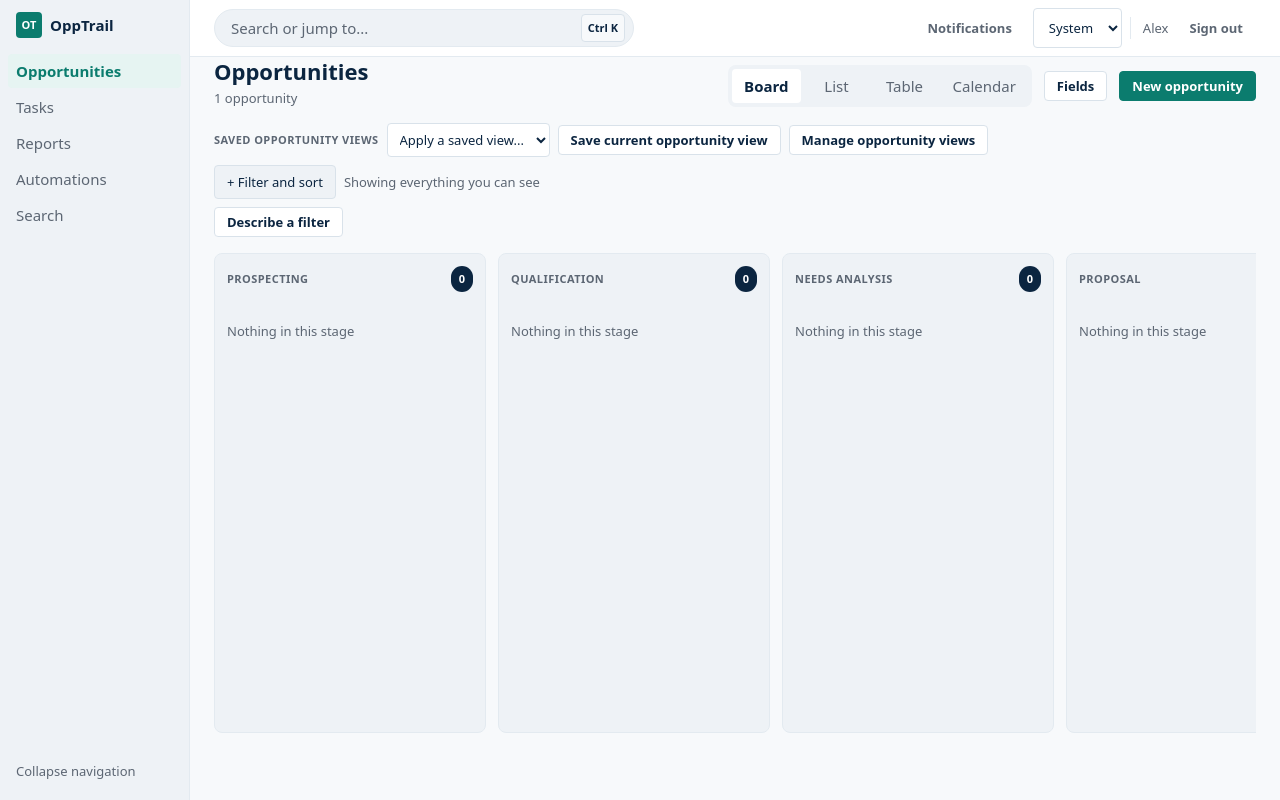
Test: a sentence as a filter you can read first › says plainly when nothing could be turned into a filter
Check: the heading "Opportunities" is shown, box x1=214 y1=57 x2=368 y2=85
Click the button "Describe a filter" at (278, 222), box x1=214 y1=207 x2=343 y2=237
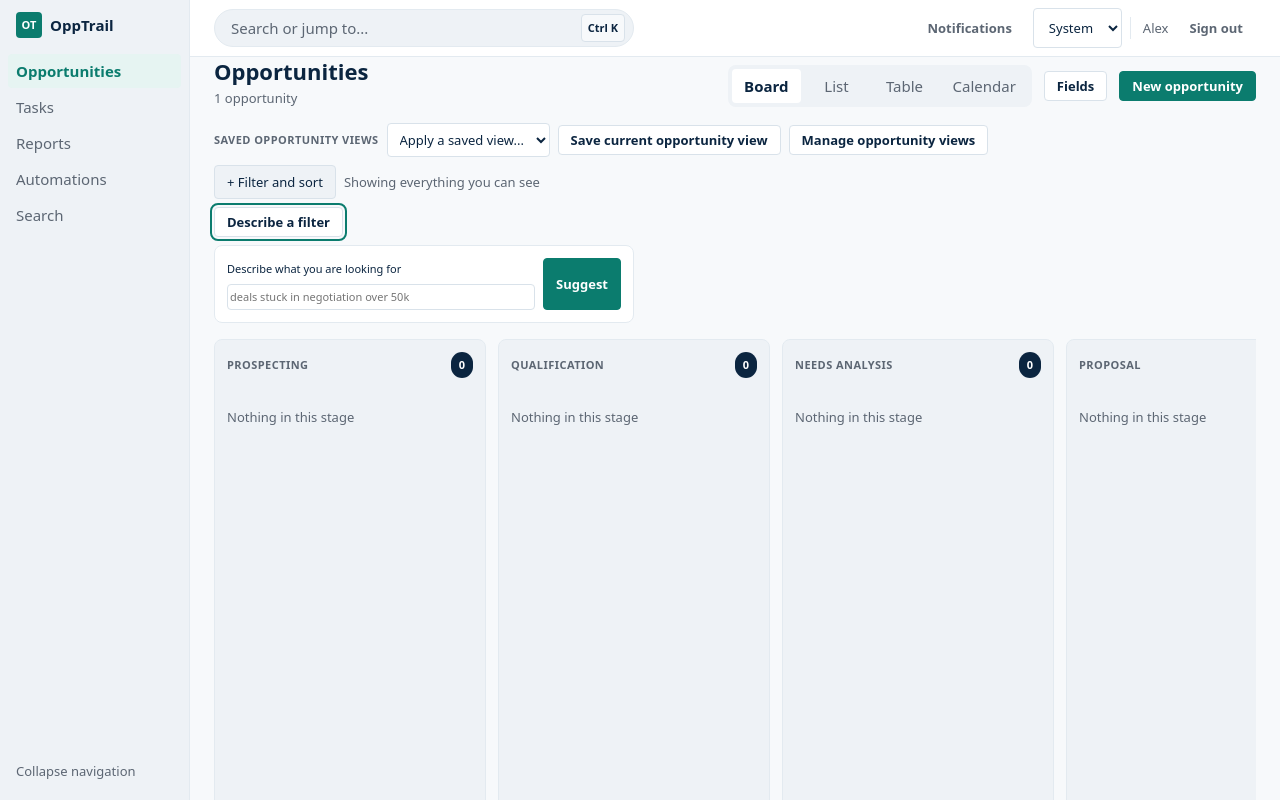
Type "hello" into the field labelled "Describe what you are looking for" at (381, 297), box x1=227 y1=284 x2=535 y2=310
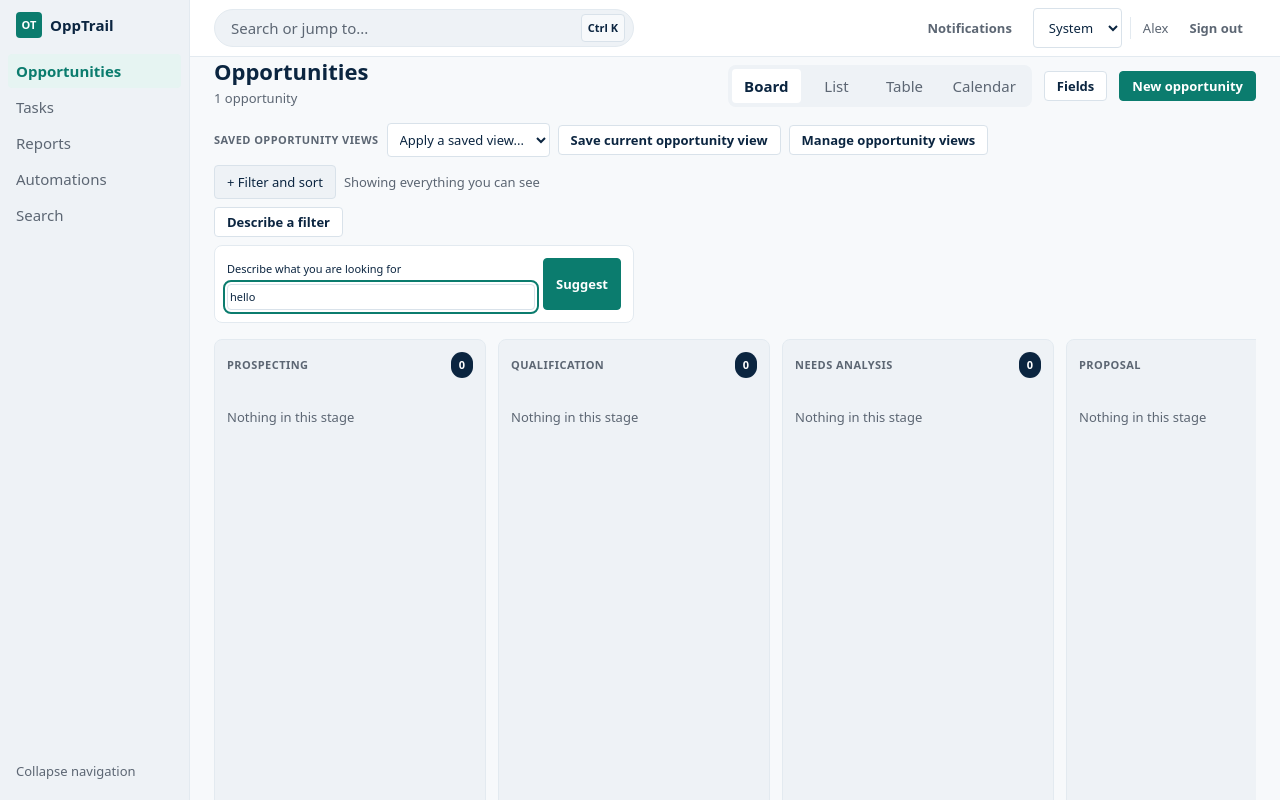
Click the button "Suggest" at (582, 284), box x1=543 y1=258 x2=621 y2=310
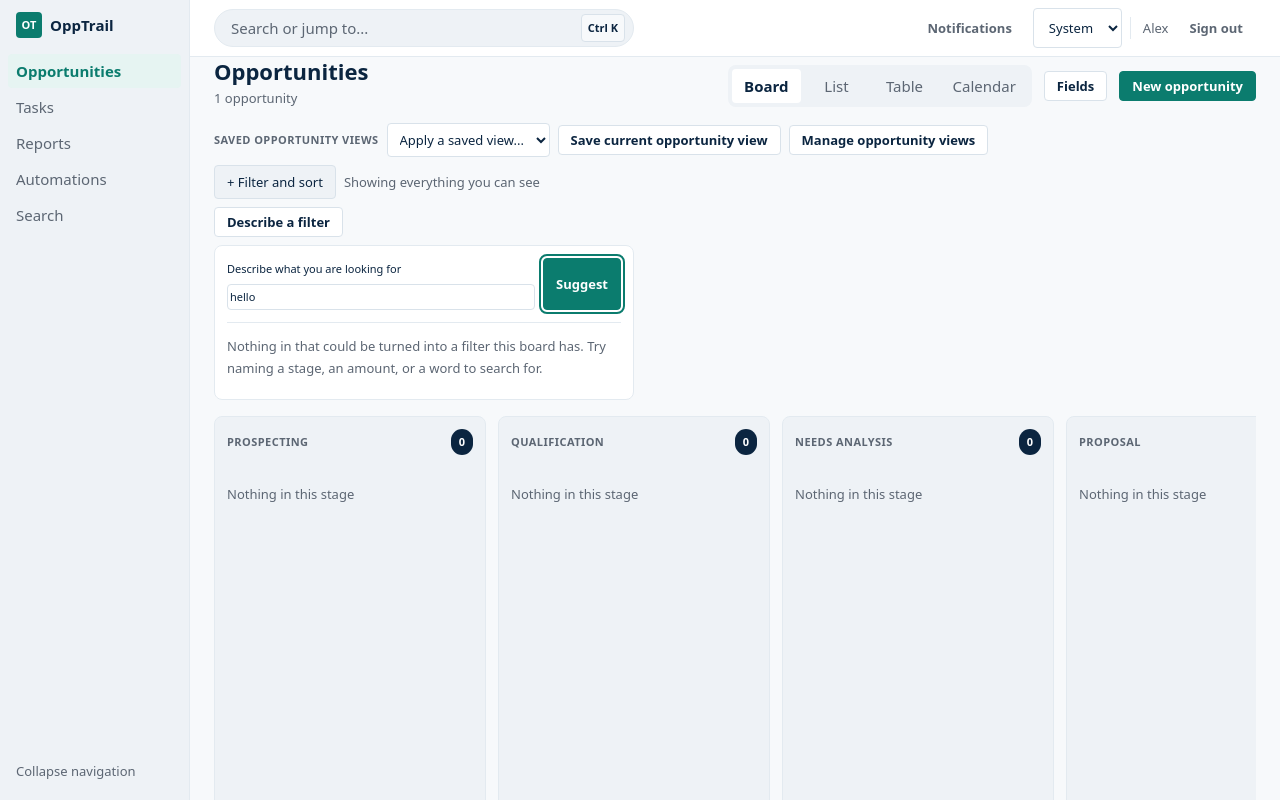
Check: the text "Nothing in that could be turned into a filter" is shown, box x1=227 y1=337 x2=606 y2=377
